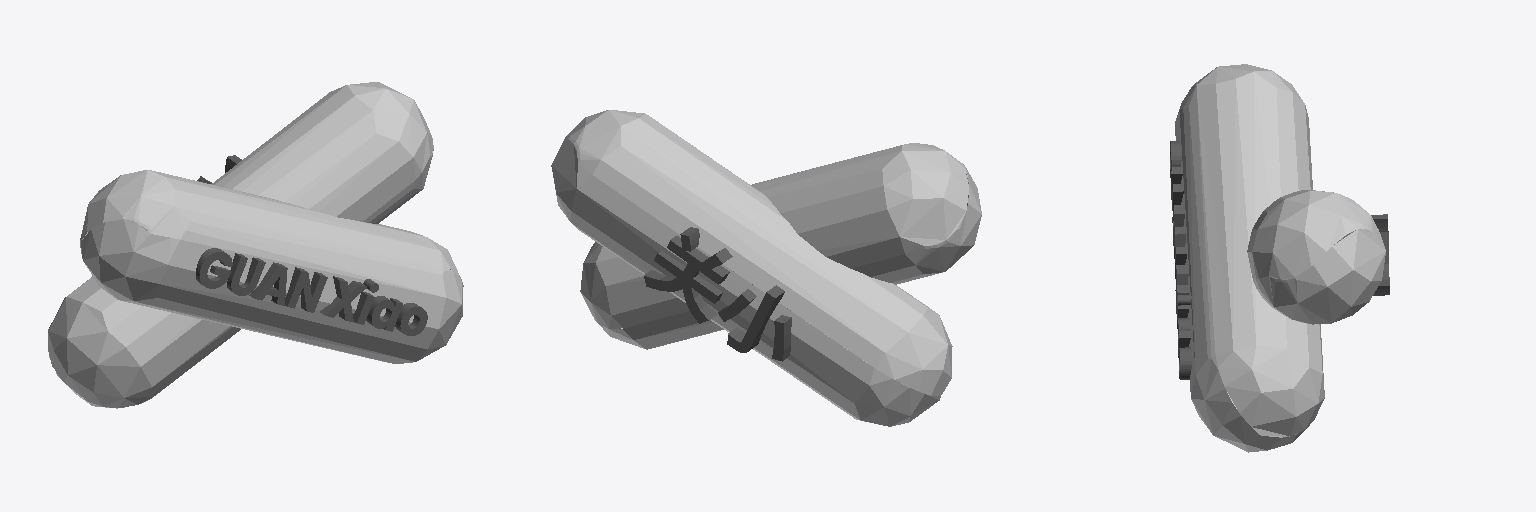
The model's file is gtest.obj.
The picture shows the model from 3 angles: view 1: azimuth 30°, elevation 25°; view 2: azimuth 150°, elevation 25°; view 3: azimuth 270°, elevation 25°; orthographic projection.
Parts seen in each view (by area): view 1: root_3, root_2, node_id1023; view 2: root_2, root_3, node_id1010; view 3: root_3, root_2, node_id1023, node_id1010.
Part boxes in pixels (left/top/right/bottom): root_3: left=80, top=170, right=463, bottom=363; root_2: left=48, top=82, right=433, bottom=408; node_id1023: left=196, top=248, right=427, bottom=335; root_2: left=551, top=110, right=952, bottom=426; root_3: left=580, top=143, right=981, bottom=349; node_id1010: left=644, top=227, right=791, bottom=361; root_3: left=1175, top=64, right=1324, bottom=452; root_2: left=1247, top=190, right=1385, bottom=324; node_id1023: left=1170, top=141, right=1191, bottom=379; node_id1010: left=1371, top=214, right=1389, bottom=295.
Size of the model in its own units: 0.289 by 0.1836 by 0.146.